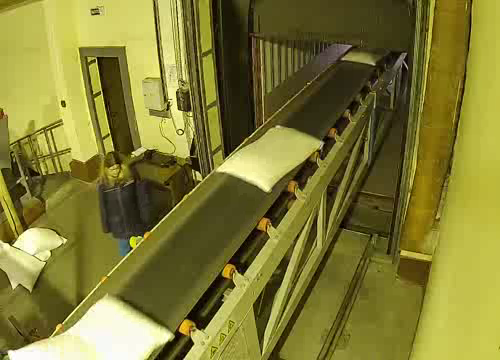bag: (4, 287, 181, 360), (212, 114, 328, 194), (335, 39, 398, 66)
